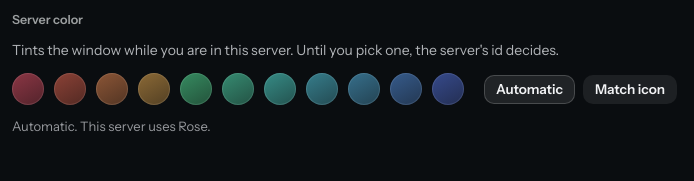
ServerColorField › says so, and saves nothing, when the icon has no color or cannot be read
Click the button "Match icon" at (630,89), box [583,74,677,104]
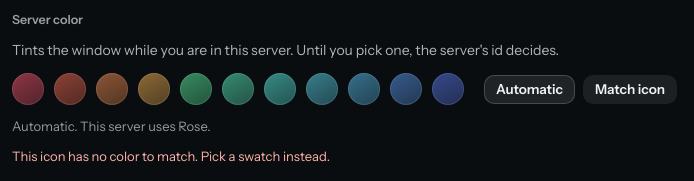
Now the message shows "This icon has no color to match", box [12,148,330,164]
Click the button "Match icon" at (630,89), box [583,74,677,104]
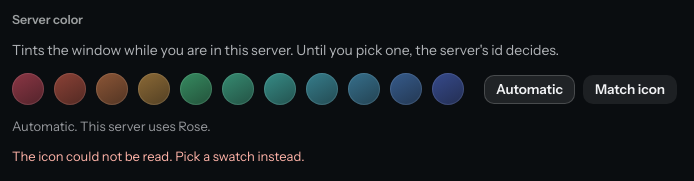
Now the message shows "The icon could not be read", box [12,148,305,164]
